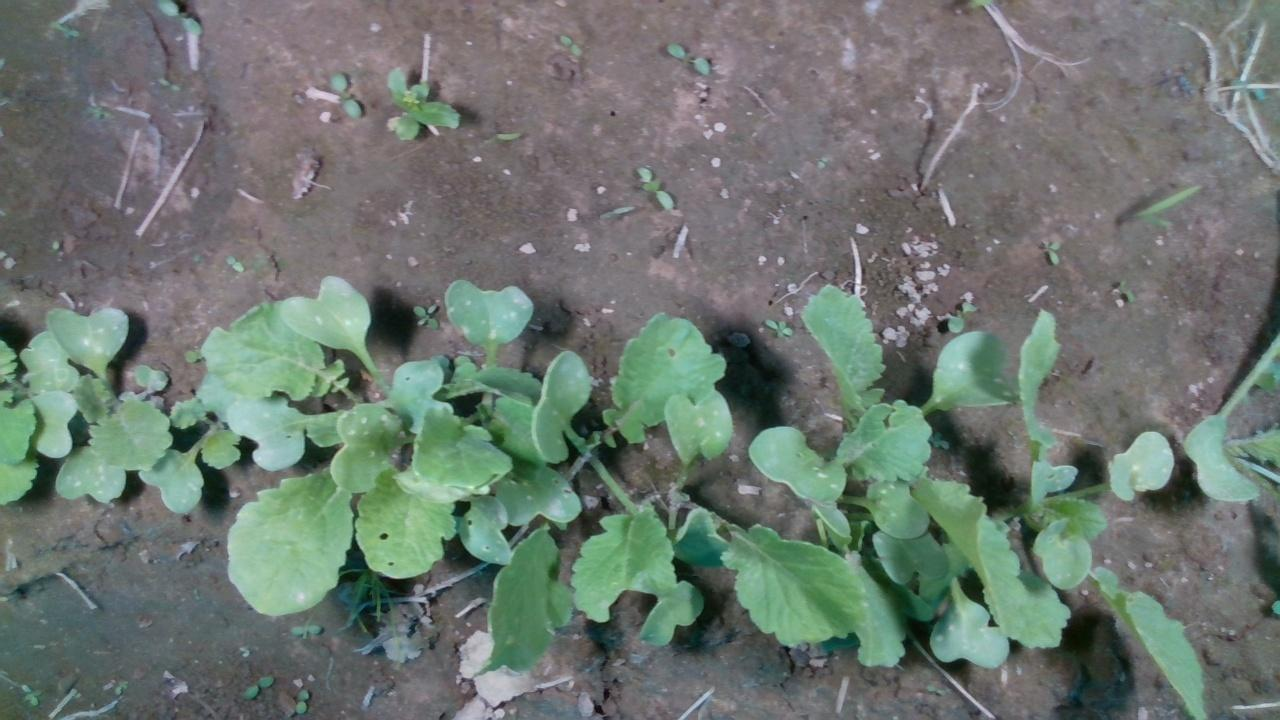weed: (636, 163, 676, 210), (330, 70, 361, 120), (665, 42, 710, 76), (239, 672, 275, 699), (762, 317, 793, 337), (560, 33, 582, 57), (289, 622, 320, 636), (294, 687, 307, 714)
